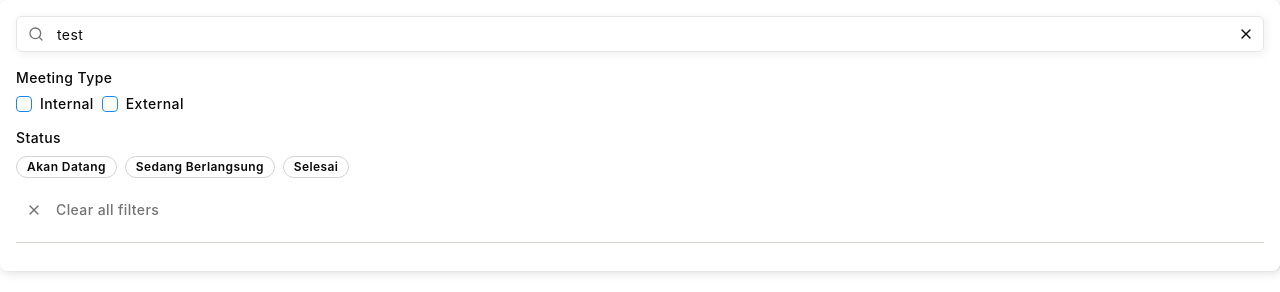
CalendarFilters › Clear filters functionality › clears local search term when clear all is clicked
Click the button "Clear all filters" at (93, 210), box [16,194,169,226]
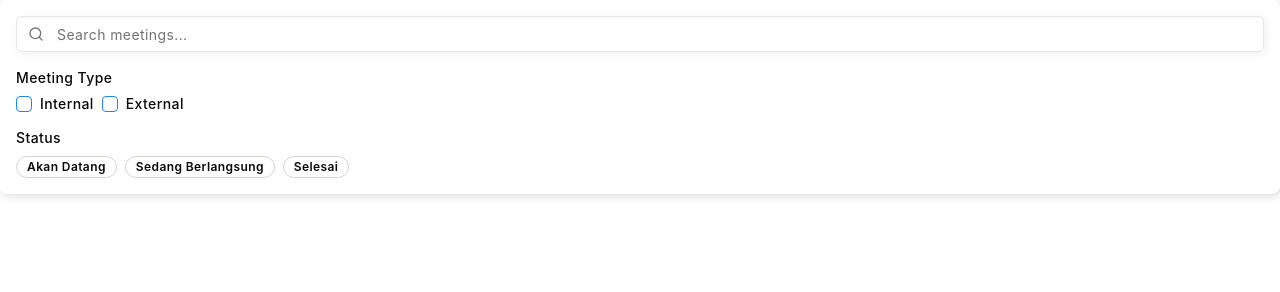
expect the field with placeholder "Search meetings..." is empty: met, box [16,16,1264,52]
